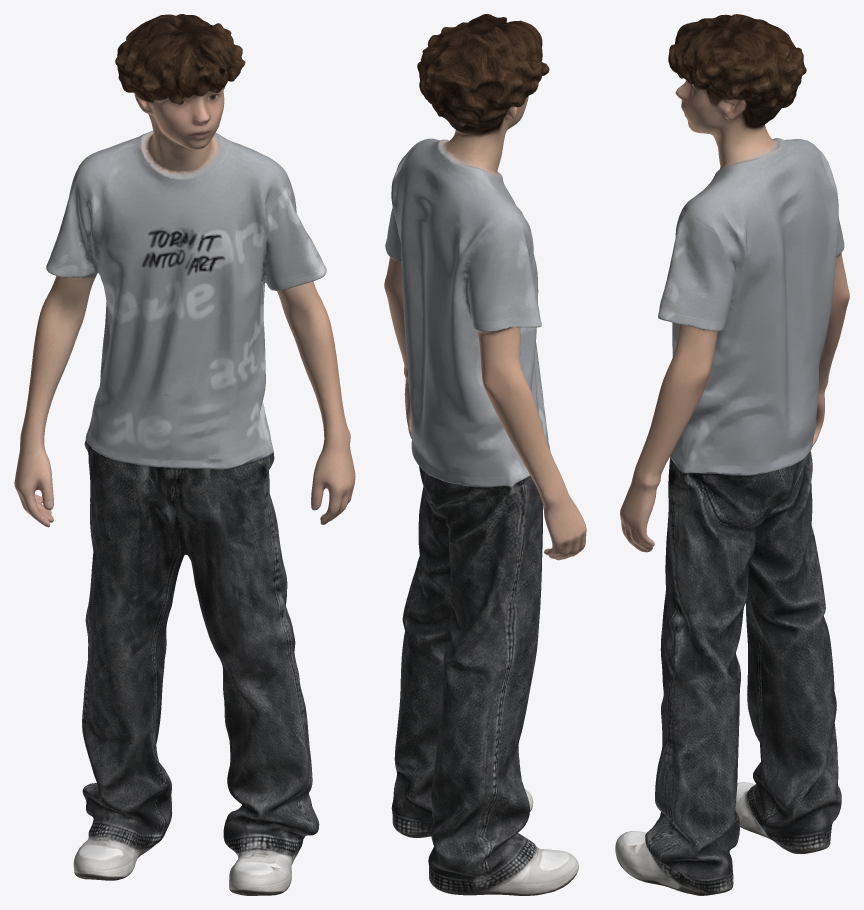
File: Meshy_AI_Urban_Canvas_0924114354_texture.obj
3 renders of one model, left to right at view 1: azimuth 30°, elevation 25°; view 2: azimuth 150°, elevation 25°; view 3: azimuth 270°, elevation 25°, orthographic.
Visible parts, largest first — view 1: Meshy_AI_Urban_Canvas_0924114354_texture; view 2: Meshy_AI_Urban_Canvas_0924114354_texture; view 3: Meshy_AI_Urban_Canvas_0924114354_texture.
Part boxes in pixels (left/top/right/bottom): Meshy_AI_Urban_Canvas_0924114354_texture: left=14, top=14, right=355, bottom=895; Meshy_AI_Urban_Canvas_0924114354_texture: left=384, top=14, right=586, bottom=895; Meshy_AI_Urban_Canvas_0924114354_texture: left=615, top=14, right=849, bottom=895.
Size of the model in its own units: 0.6049 by 1.9 by 0.4852.
1 material, 1 textured.
